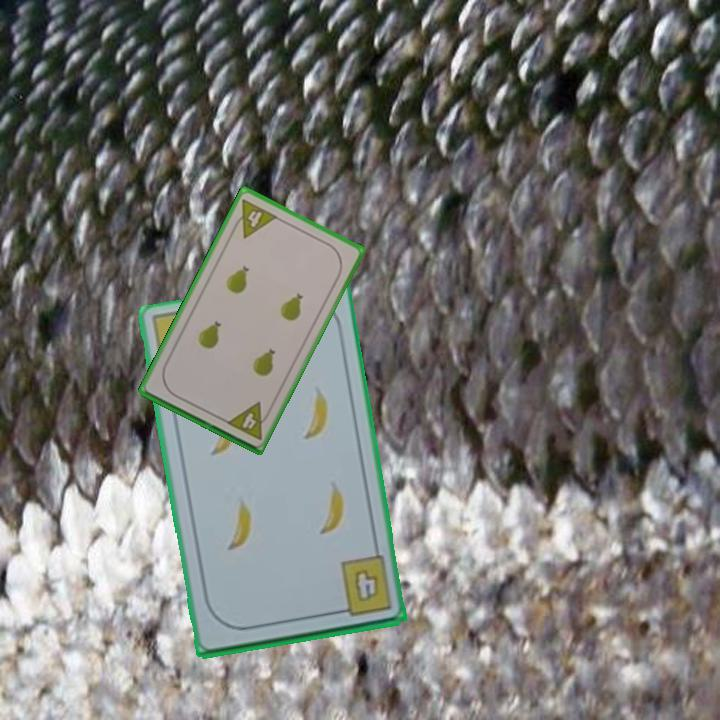4b: (330, 553, 395, 620)
4p: (228, 195, 280, 241), (223, 398, 274, 442)
